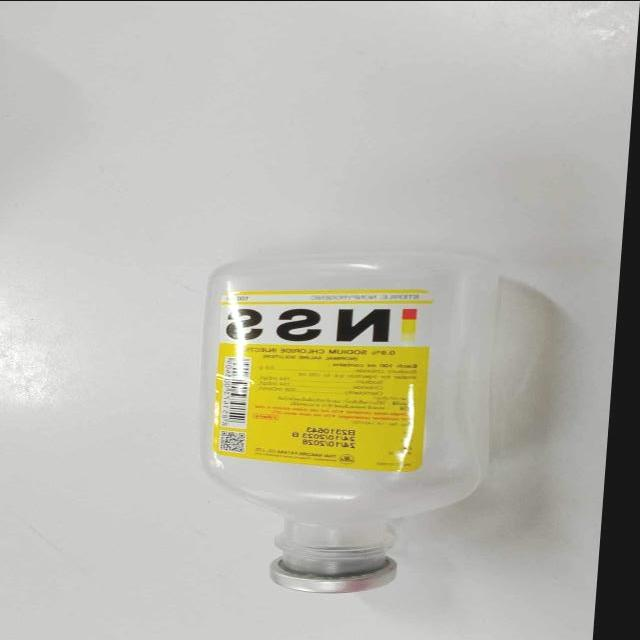General: (210, 285, 434, 473)
Sharps: (197, 247, 556, 593)
